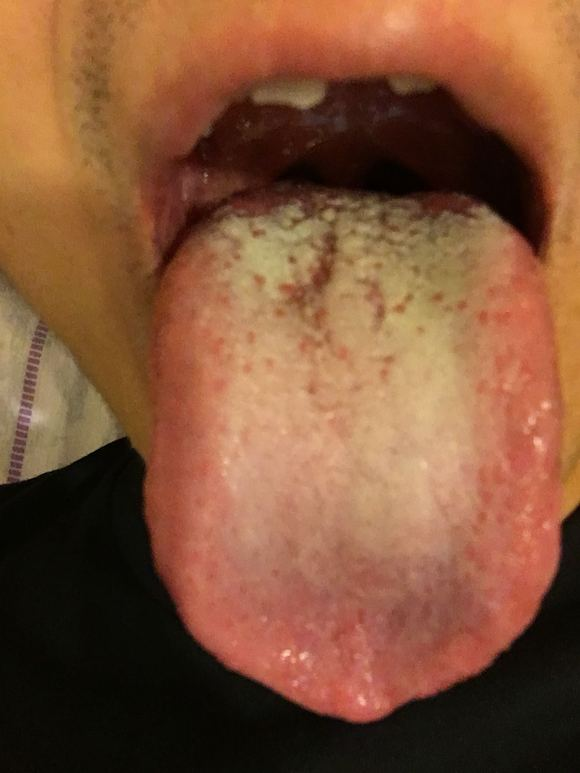baitaishe: (144, 181, 565, 721)
hongdianshe: (250, 270, 266, 289), (430, 286, 444, 306)
hongshe: (144, 181, 565, 721)
